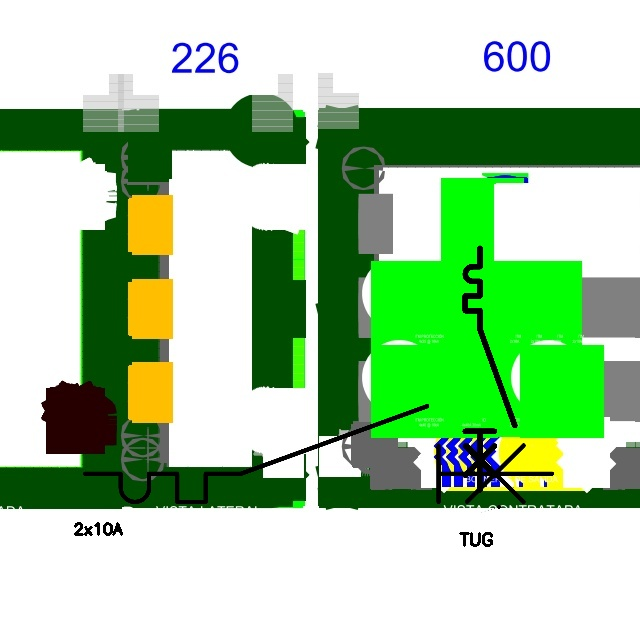interruptor_termomagnetico: (73, 394, 564, 514), (459, 242, 521, 496)
